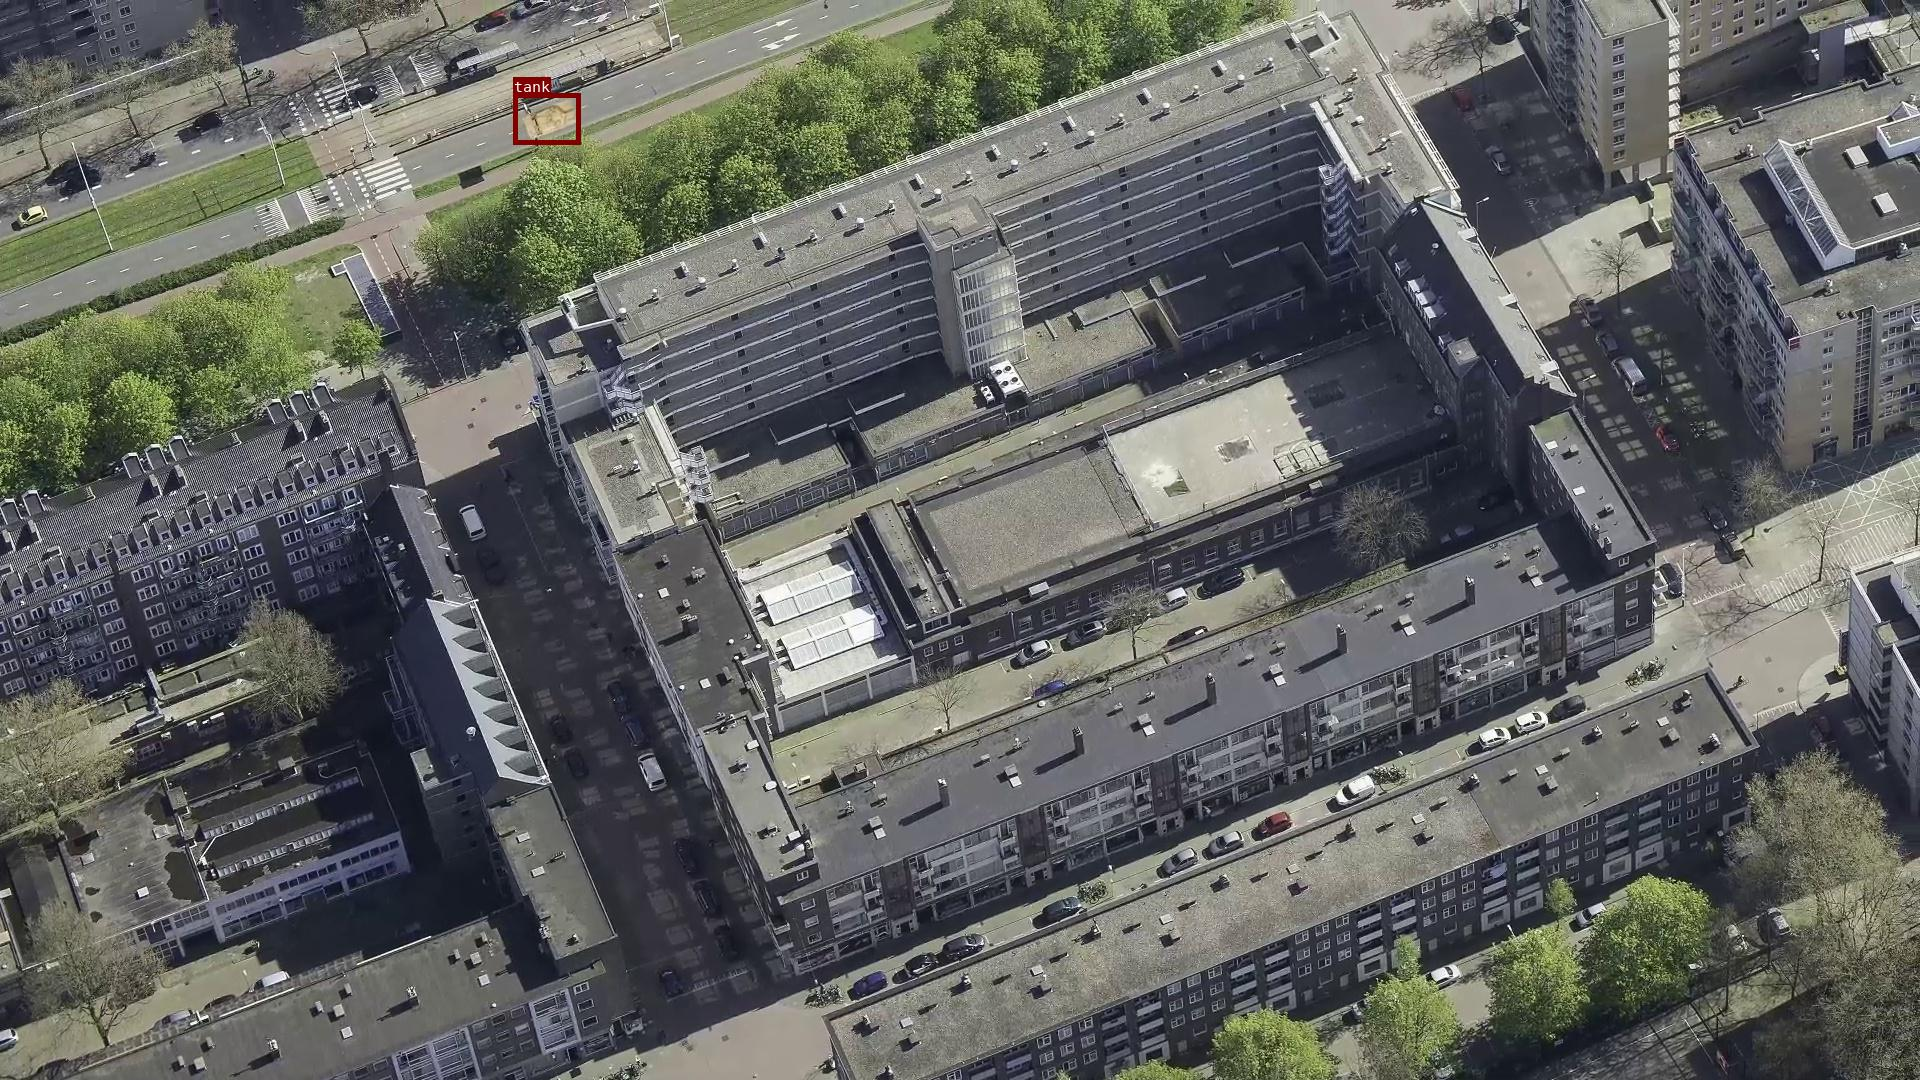tank: (513, 94, 580, 144)
